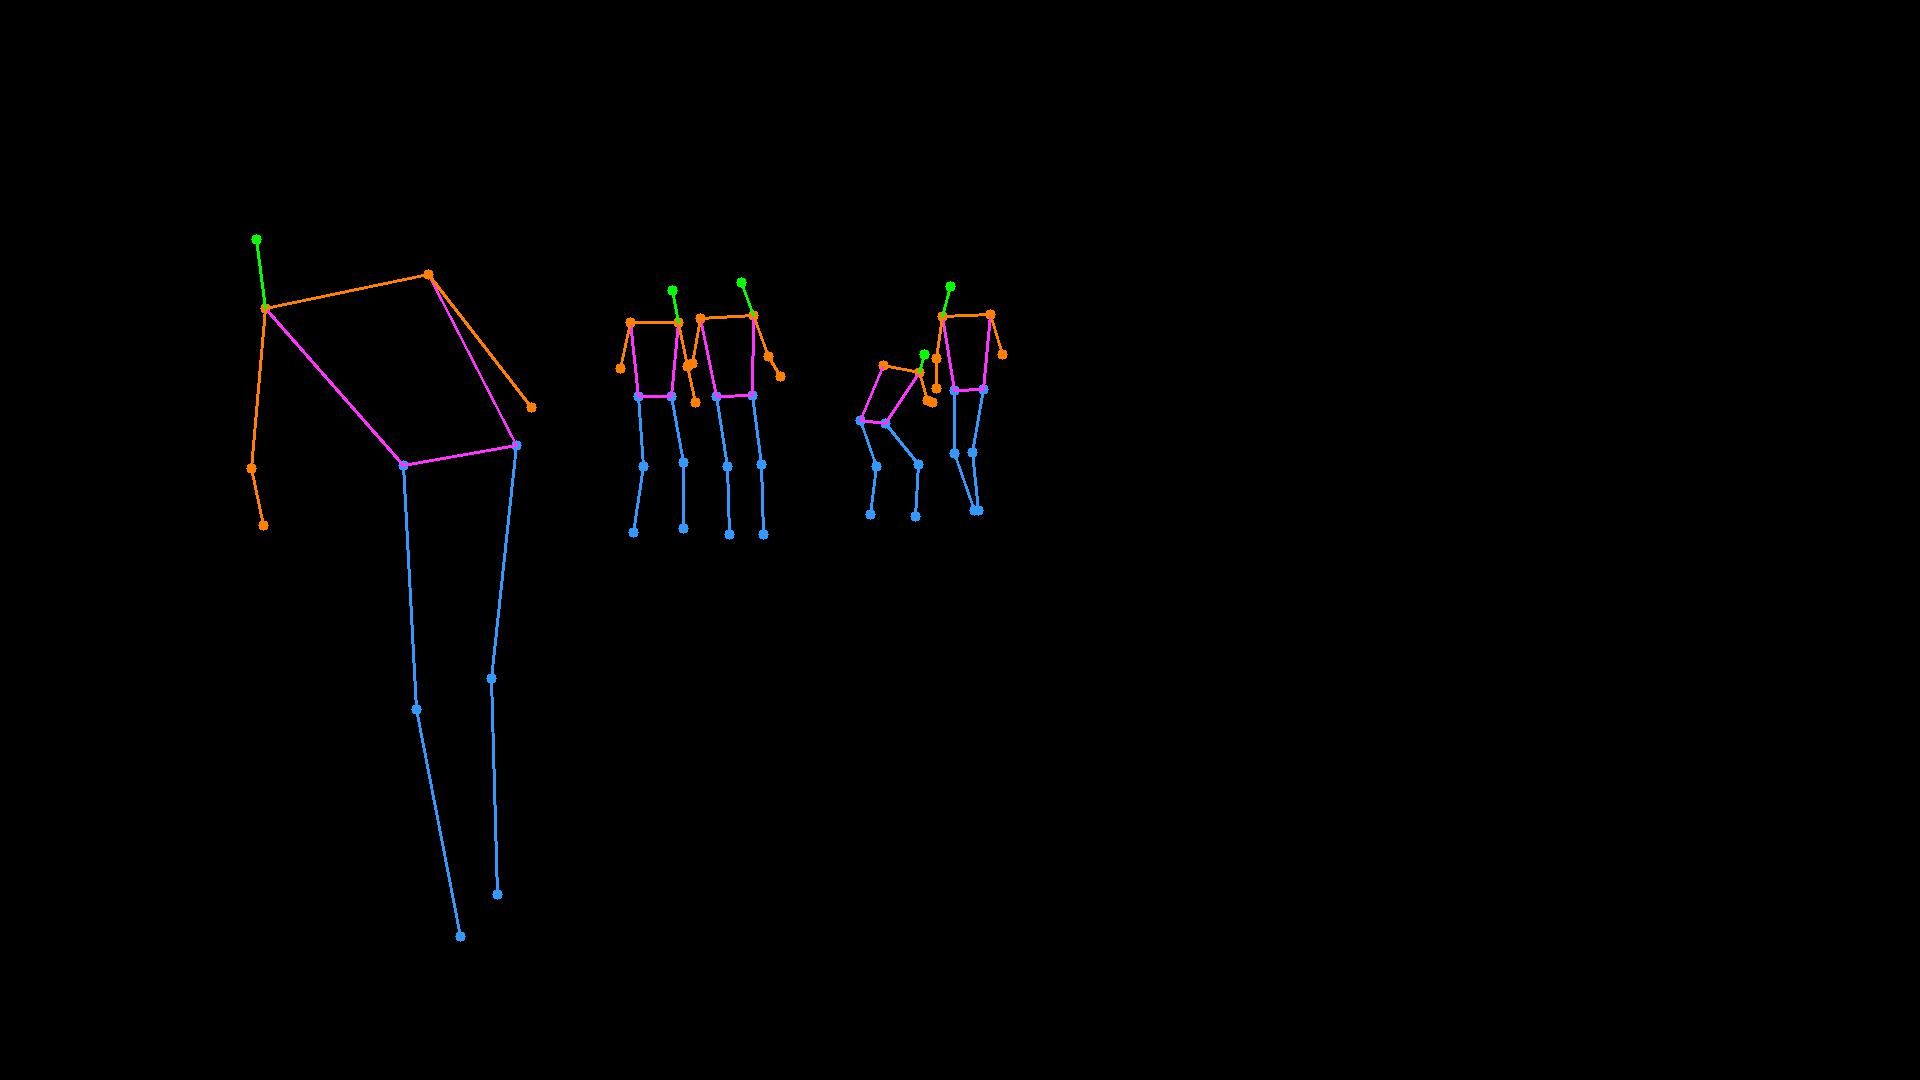normal: (185, 196, 556, 969), (599, 270, 702, 559)
